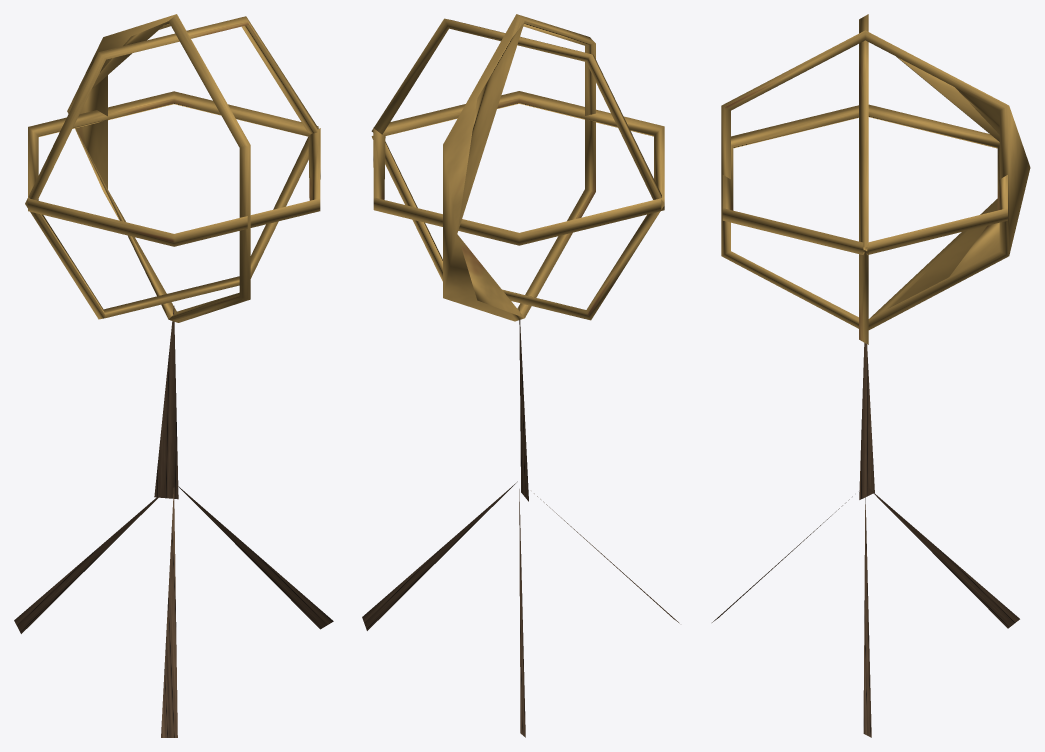
Rendered from Armillary_Sphere_1_LOD2.gltf.
The picture shows the model from 3 angles, left to right: view 1: azimuth 30°, elevation 25°; view 2: azimuth 150°, elevation 25°; view 3: azimuth 270°, elevation 25°; orthographic projection. The views are drawn at different scales.
Parts seen in each view (by area): view 1: Armillary_Sphere_1_LOD2; view 2: Armillary_Sphere_1_LOD2; view 3: Armillary_Sphere_1_LOD2.
Boxes of the visible parts, x1=… form: Armillary_Sphere_1_LOD2: x1=14, y1=14, x2=333, y2=737; Armillary_Sphere_1_LOD2: x1=362, y1=14, x2=679, y2=737; Armillary_Sphere_1_LOD2: x1=712, y1=14, x2=1030, y2=737.
Size of the model in its own units: 1.07 by 2.19 by 0.9961.
Materials: 2 (2 with a texture image).
